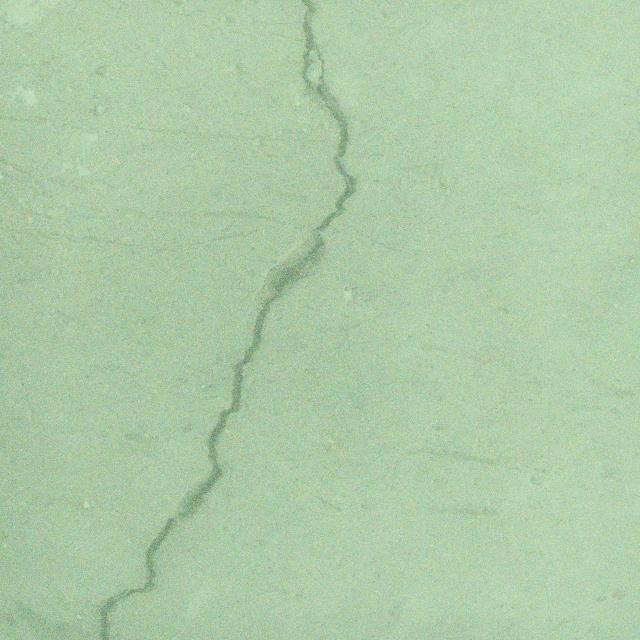crack: (96, 0, 358, 640)
